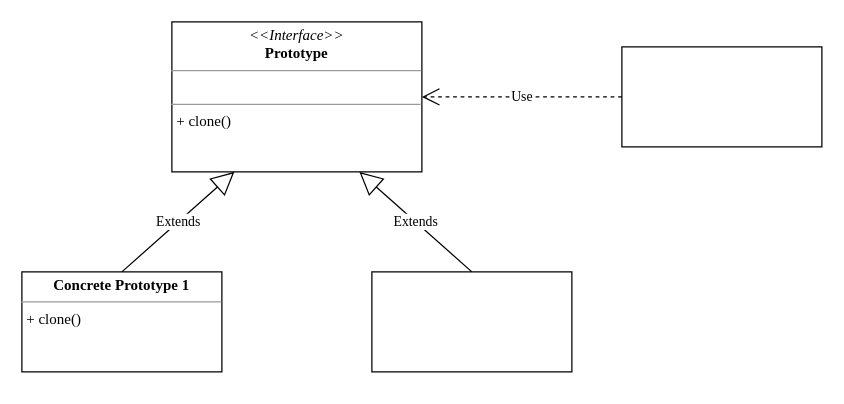
Image size: 844x404. Some labels were removed from this diagram. The shapes that lost their labels are listed below. From the top down, each one's box as (x1, y1, x2, y2) in pixels, then its label:
(621, 46, 822, 147): Client + action()
(371, 271, 572, 372): Concrete Prototype 2 + clone()
